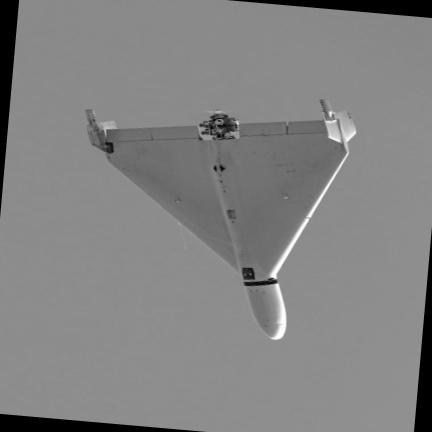Shahed: (85, 100, 354, 339)
